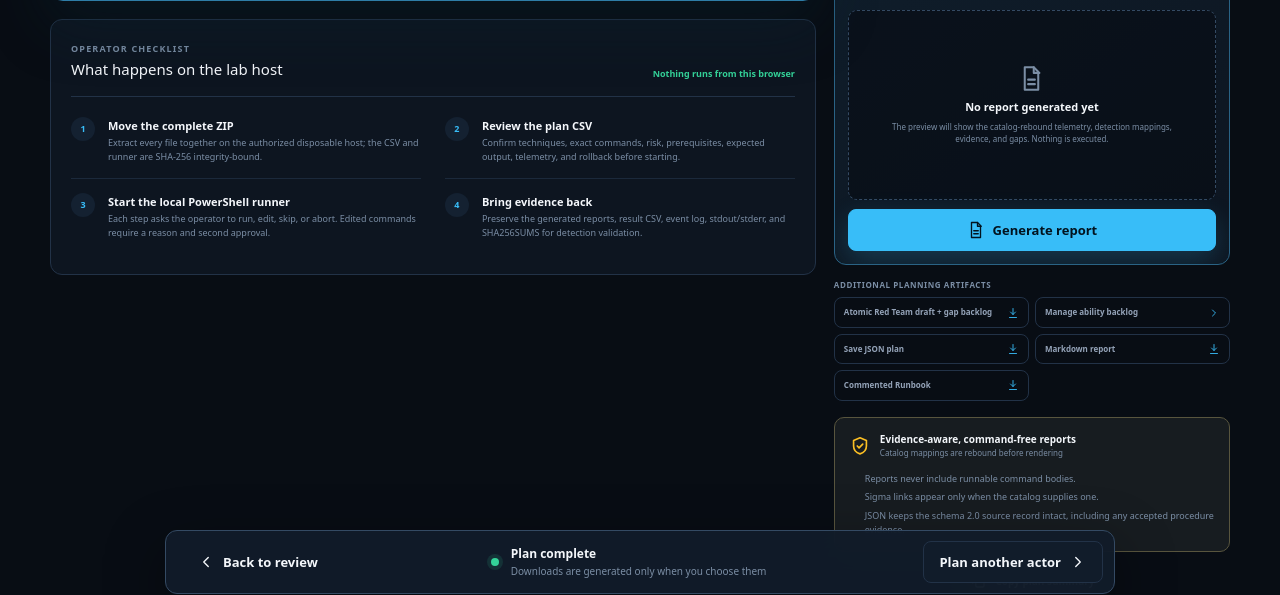
Test: ExportScreen report generation › loads backlog pages beyond 200 without dropping edits to already loaded rows
(page scrolled)
Step 1. Click the button "Manage ability backlog" → (1132, 313), box [1035, 298, 1230, 328]
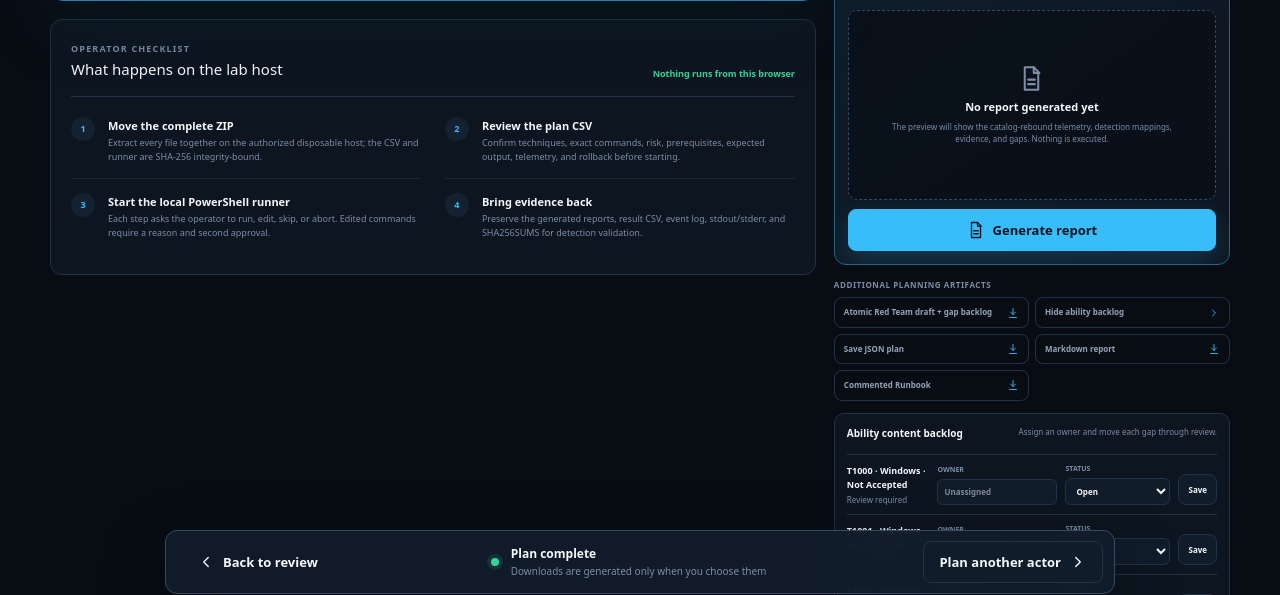
Step 2. Type "Draft owner" into the field labelled "Owner" below "T1000" → (998, 492), box [938, 479, 1058, 505]
(page scrolled)
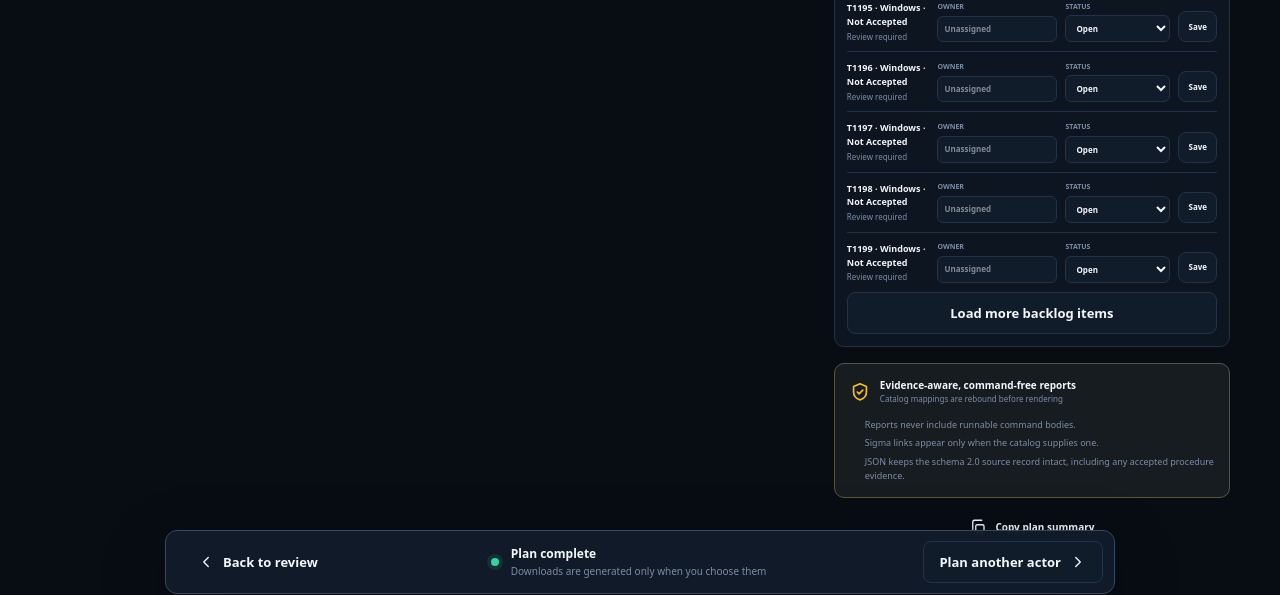
Step 3. Click the button "Load more backlog items" → (1032, 313), box [847, 292, 1217, 334]
(page scrolled)
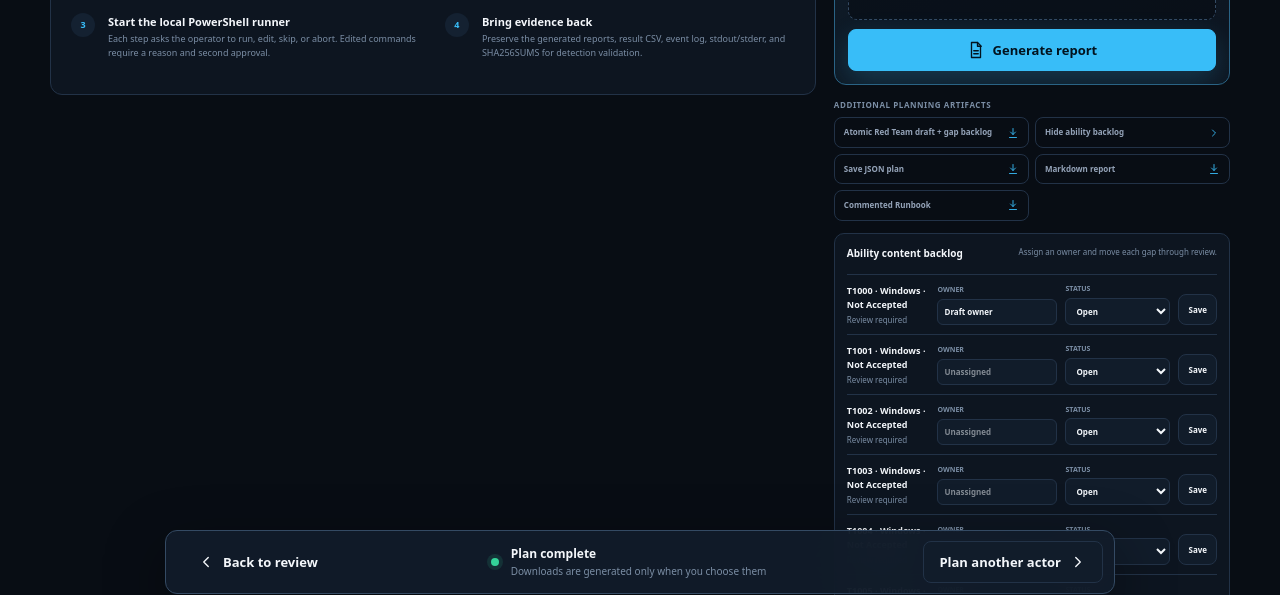
Result: the number of fields labelled "Owner" is 201
Result: the button "Load more backlog items" is gone
